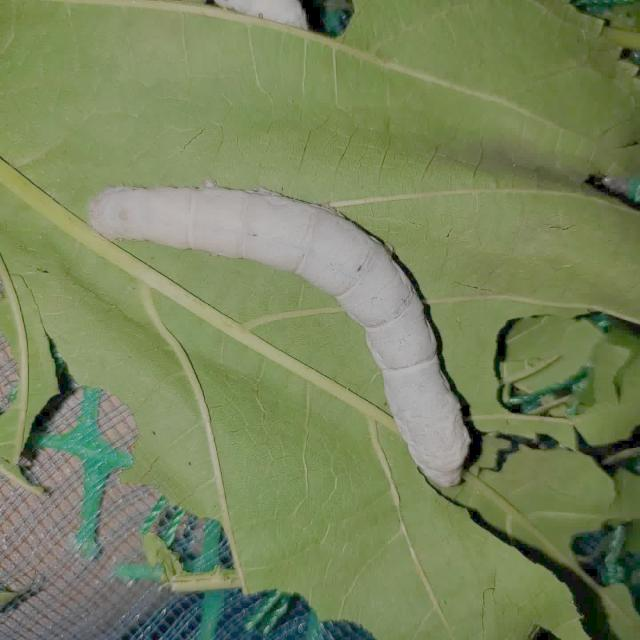Healthy: (66, 136, 550, 507)
